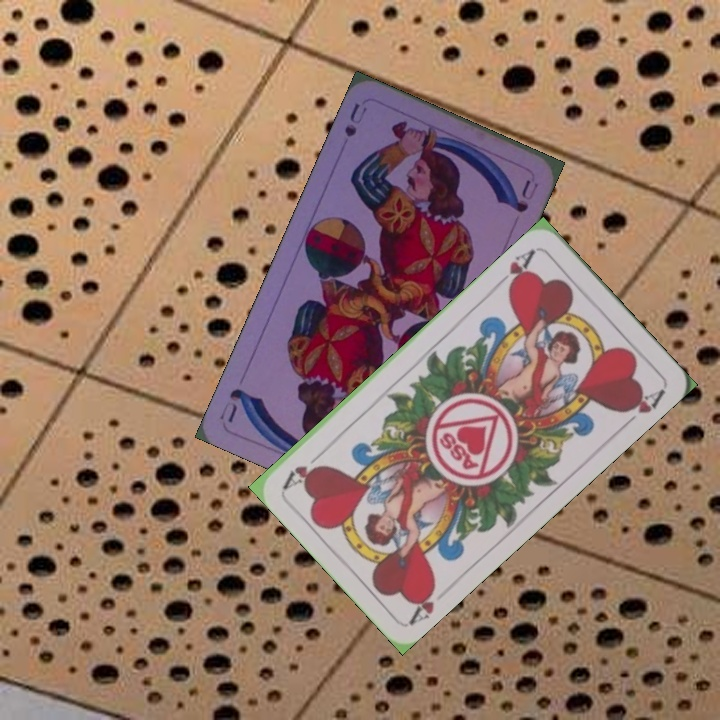HA: (491, 245, 539, 294), (406, 577, 440, 626)
SU: (340, 99, 370, 140)
